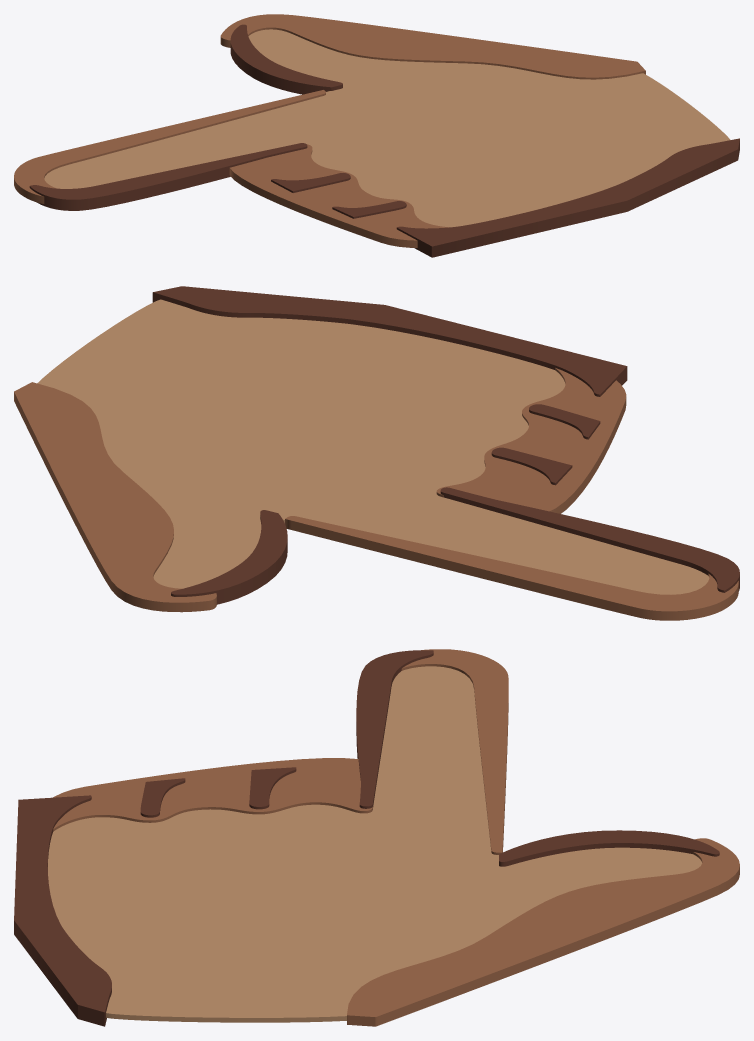
The model's file is emoji_u1f448_1f3fd.glb.
3 renders of one model, top to bottom at view 1: azimuth 30°, elevation 25°; view 2: azimuth 150°, elevation 25°; view 3: azimuth 270°, elevation 25°, orthographic. The views are drawn at different scales.
Parts seen in each view (by area): view 1: emoji_u1f448_1f3fd; view 2: emoji_u1f448_1f3fd; view 3: emoji_u1f448_1f3fd.
Boxes of the visible parts, x1,y1,x2,y2 form: emoji_u1f448_1f3fd: (14, 14, 739, 257); emoji_u1f448_1f3fd: (14, 286, 739, 620); emoji_u1f448_1f3fd: (14, 649, 739, 1026).
Size of the model in its own units: 0.0331 by 0.0006 by 0.0276.
